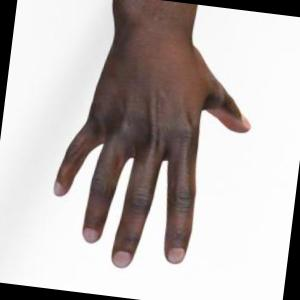paper: (54, 0, 250, 268)
